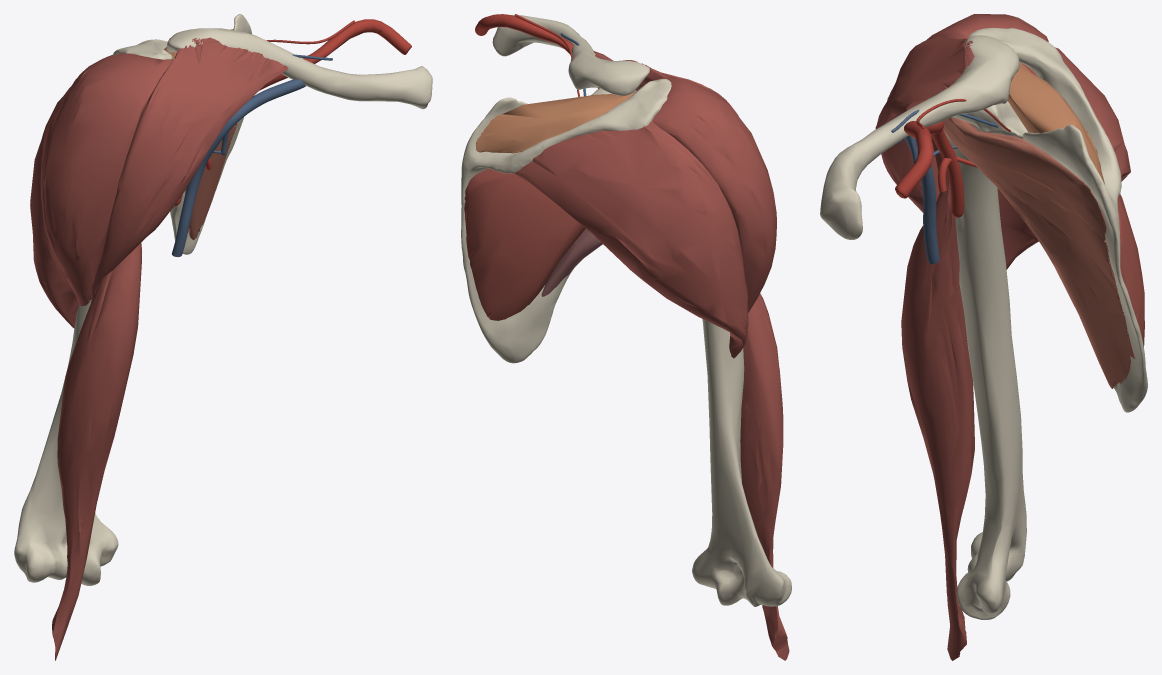
File: shoulder-smooth.glb
The picture shows the model from 3 angles, left to right: view 1: azimuth 30°, elevation 25°; view 2: azimuth 150°, elevation 25°; view 3: azimuth 270°, elevation 25°; orthographic projection. The views are drawn at different scales.
Visible parts, largest first — view 1: FJ1468, FJ1467, FJ1478, FJ3368, FJ3362, FJ1513, FJ2269, FJ3384, FJ1504, FJ3579; view 2: FJ1513, FJ3368, FJ1500, FJ1467, FJ3384, FJ1478, FJ1506, FJ3362, FJ1508, FJ3579, FJ1468; view 3: FJ3368, FJ1478, FJ1504, FJ3384, FJ3362, FJ1468, FJ1506, FJ1513, FJ1500, FJ1467, FJ3579, FJ2268 (+1 smaller).
Part boxes in pixels (left/top/right/bottom): FJ1468: left=91, top=37, right=288, bottom=301; FJ1467: left=41, top=53, right=173, bottom=305; FJ1478: left=52, top=243, right=141, bottom=660; FJ3368: left=14, top=299, right=118, bottom=585; FJ3362: left=166, top=28, right=432, bottom=109; FJ1513: left=30, top=54, right=112, bottom=328; FJ2269: left=172, top=79, right=305, bottom=256; FJ3384: left=113, top=14, right=251, bottom=254; FJ1504: left=185, top=121, right=238, bottom=240; FJ3579: left=303, top=19, right=411, bottom=63; FJ1513: left=514, top=120, right=748, bottom=358; FJ3368: left=692, top=319, right=791, bottom=606; FJ1500: left=464, top=168, right=585, bottom=320; FJ1467: left=652, top=77, right=776, bottom=312; FJ3384: left=461, top=78, right=671, bottom=363; FJ1478: left=740, top=293, right=789, bottom=660; FJ1506: left=476, top=92, right=635, bottom=153; FJ3362: left=492, top=15, right=649, bottom=95; FJ1508: left=541, top=229, right=602, bottom=296; FJ3579: left=475, top=14, right=573, bottom=54; FJ1468: left=593, top=50, right=738, bottom=116; FJ3368: left=944, top=131, right=1026, bottom=619; FJ1478: left=901, top=158, right=974, bottom=660; FJ1504: left=943, top=117, right=1130, bottom=388; FJ3384: left=952, top=27, right=1147, bottom=412; FJ3362: left=820, top=35, right=1019, bottom=239; FJ1468: left=875, top=36, right=974, bottom=212; FJ1506: left=1007, top=62, right=1104, bottom=184; FJ1513: left=997, top=47, right=1130, bottom=269; FJ1500: left=1022, top=63, right=1144, bottom=358; FJ1467: left=927, top=14, right=1048, bottom=170; FJ3579: left=895, top=121, right=933, bottom=198; FJ2268: left=926, top=121, right=964, bottom=217.
Size of the model in its own units: 2.31 by 3.61 by 1.52.
